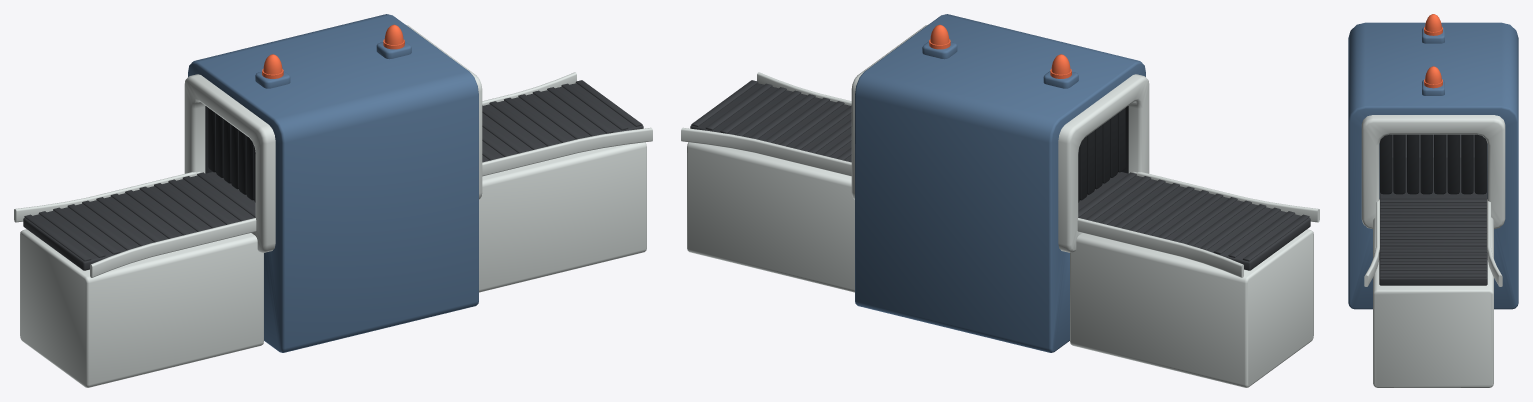
File: scanner_bagages.glb
The picture shows the model from 3 angles, left to right: view 1: azimuth 30°, elevation 25°; view 2: azimuth 150°, elevation 25°; view 3: azimuth 270°, elevation 25°; orthographic projection. The views are drawn at different scales.
Parts seen in each view (by area): view 1: SCB_Ardoise_Moyen, SCB_Etagere, SCB_Bande, SCB_Rideau_Entree, SCB_Corail; view 2: SCB_Ardoise_Moyen, SCB_Etagere, SCB_Bande, SCB_Rideau_Entree, SCB_Corail; view 3: SCB_Ardoise_Moyen, SCB_Etagere, SCB_Bande, SCB_Rideau_Sortie, SCB_Corail.
Boxes of the visible parts, bbox=[...] form: SCB_Ardoise_Moyen: bbox=[188, 14, 478, 352]; SCB_Etagere: bbox=[14, 25, 652, 387]; SCB_Bande: bbox=[23, 80, 643, 270]; SCB_Rideau_Entree: bbox=[208, 108, 255, 202]; SCB_Corail: bbox=[262, 24, 404, 78]; SCB_Ardoise_Moyen: bbox=[855, 14, 1145, 352]; SCB_Etagere: bbox=[681, 25, 1319, 387]; SCB_Bande: bbox=[690, 80, 1310, 270]; SCB_Rideau_Entree: bbox=[1078, 108, 1125, 202]; SCB_Corail: bbox=[929, 24, 1071, 78]; SCB_Ardoise_Moyen: bbox=[1348, 22, 1518, 309]; SCB_Etagere: bbox=[1361, 115, 1505, 387]; SCB_Bande: bbox=[1379, 134, 1487, 285]; SCB_Rideau_Sortie: bbox=[1380, 134, 1486, 194]; SCB_Corail: bbox=[1424, 14, 1442, 88].
Bounding box in the file's own units: 3.7 × 1.62 × 1.1.
